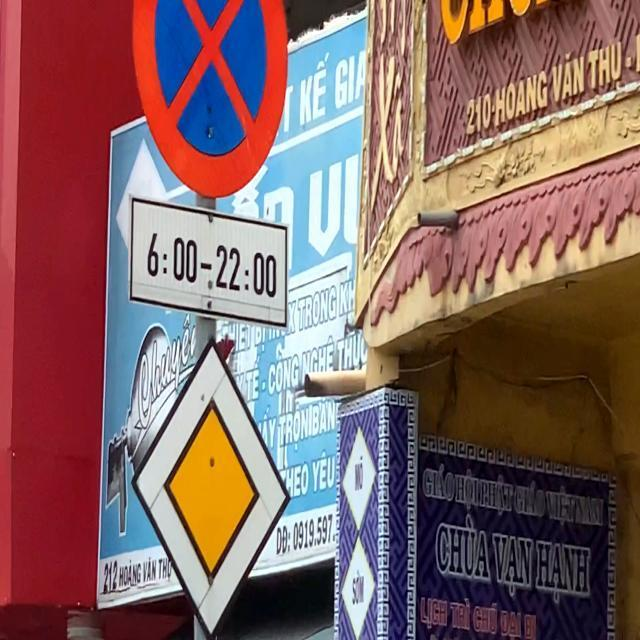130-cam-dung-va-do-xe: (133, 1, 288, 197)
